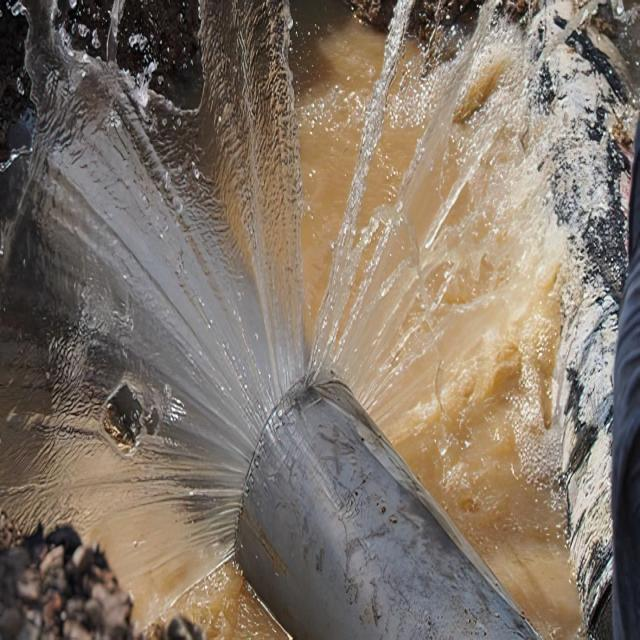leak: (0, 0, 564, 623)
